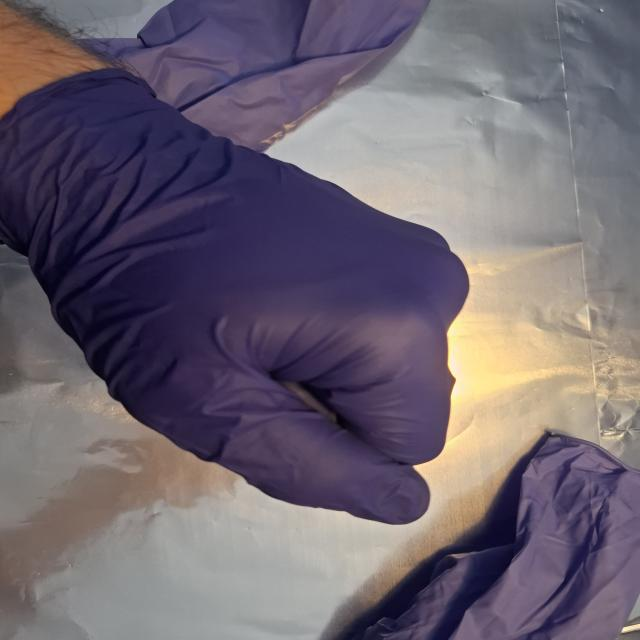glove_on: (2, 56, 473, 528)
